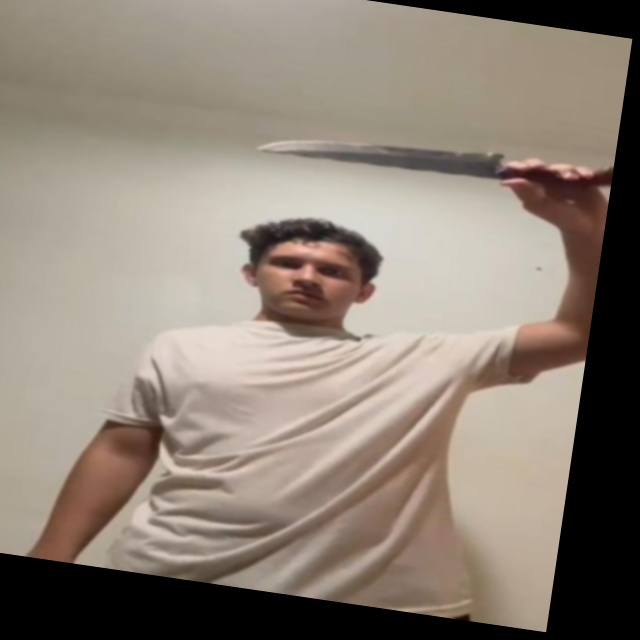Sharp-Object: (257, 116, 502, 188)
